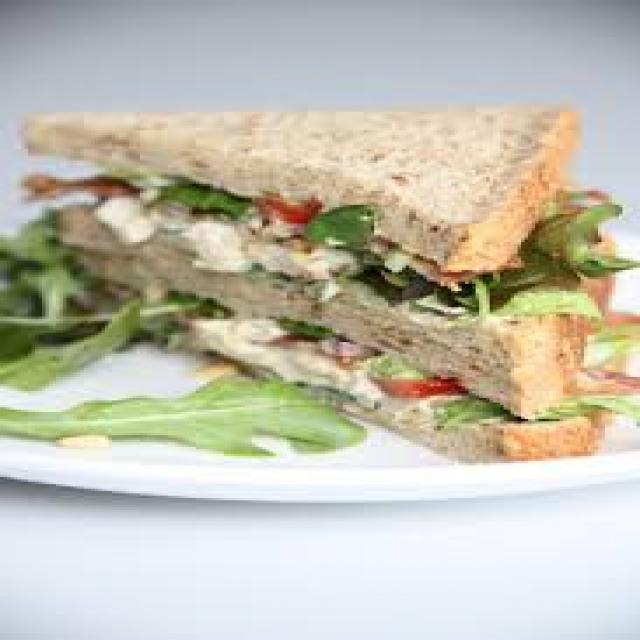organic waste: (18, 100, 636, 456), (14, 102, 577, 268), (0, 374, 371, 452), (3, 298, 161, 396), (0, 214, 84, 333), (532, 188, 619, 272), (126, 279, 241, 321), (133, 174, 241, 218), (84, 195, 157, 256), (168, 219, 248, 265), (256, 240, 346, 277), (430, 263, 525, 298), (287, 203, 367, 242), (356, 258, 441, 291), (24, 172, 122, 200), (0, 288, 35, 361), (262, 326, 354, 351), (381, 365, 455, 396), (248, 193, 329, 219), (448, 393, 514, 419)
